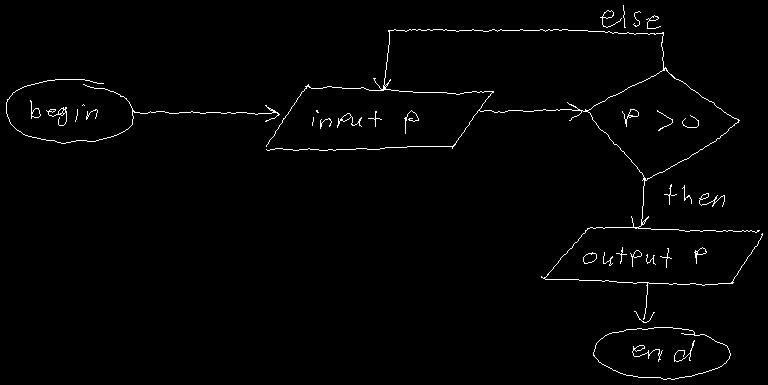arrow: (373, 29, 663, 90), (133, 105, 279, 121), (478, 102, 582, 120), (631, 178, 648, 228), (634, 283, 654, 322)
data: (266, 84, 493, 150), (541, 227, 762, 285)
decision: (583, 67, 739, 180)
terminator: (6, 79, 133, 143), (593, 327, 730, 379)
text: (583, 247, 706, 267), (312, 110, 418, 133), (30, 100, 97, 125), (622, 109, 698, 130), (600, 5, 660, 28), (664, 184, 724, 206), (632, 340, 694, 361)
